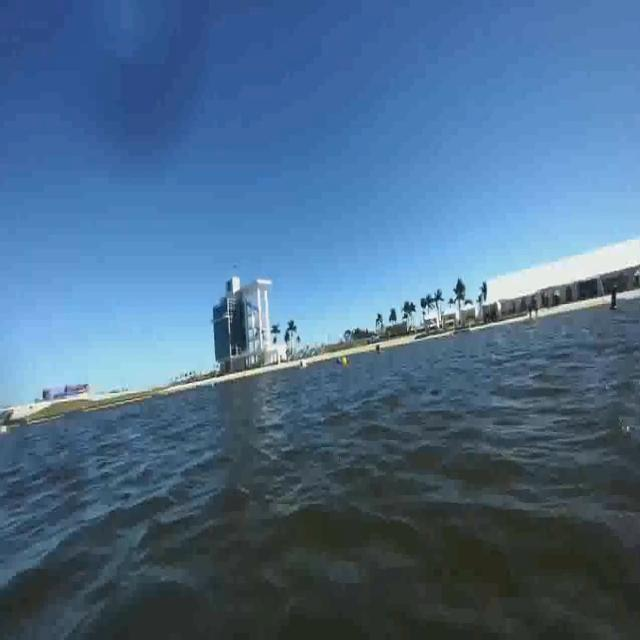yellow-buoy: (343, 355, 349, 367)
